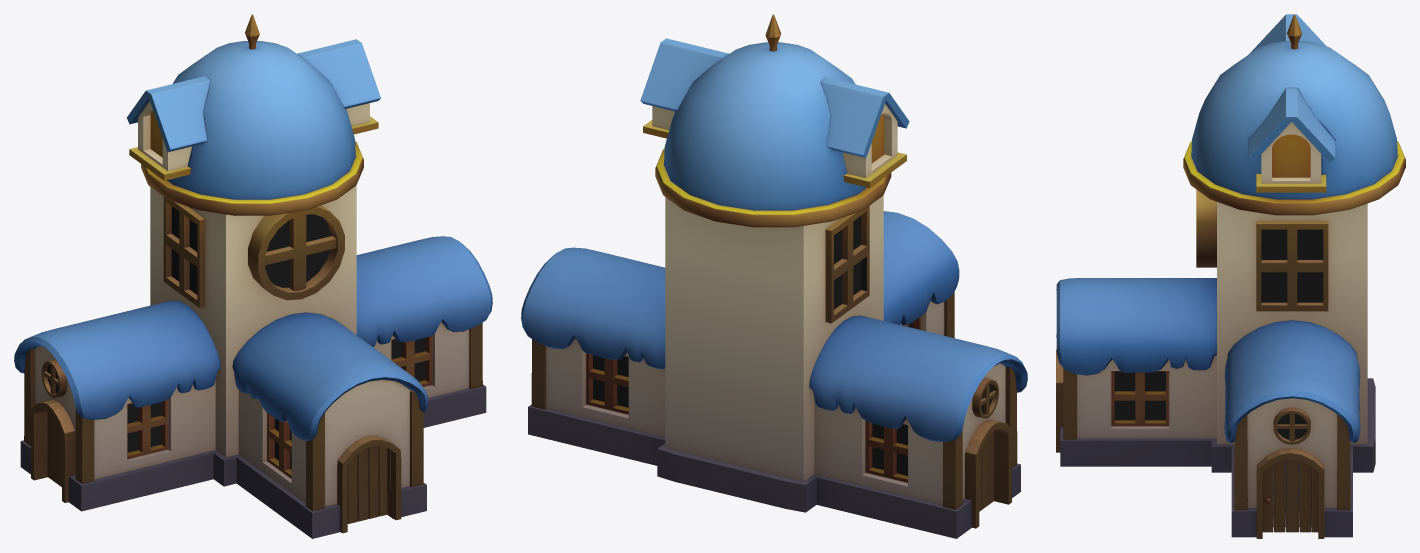
File: Library.fbx
3 renders of one model, left to right at view 1: azimuth 30°, elevation 25°; view 2: azimuth 150°, elevation 25°; view 3: azimuth 270°, elevation 25°, orthographic. The views are drawn at different scales.
Parts seen in each view (by area): view 1: Cube.025; view 2: Cube.025; view 3: Cube.025.
Part boxes in pixels (x1,y1,x2,y2): Cube.025: (14, 14, 492, 538); Cube.025: (521, 14, 1027, 538); Cube.025: (1056, 14, 1405, 538).
Bounding box in the file's own units: 478 × 464 × 346.
1 material, 1 textured.
